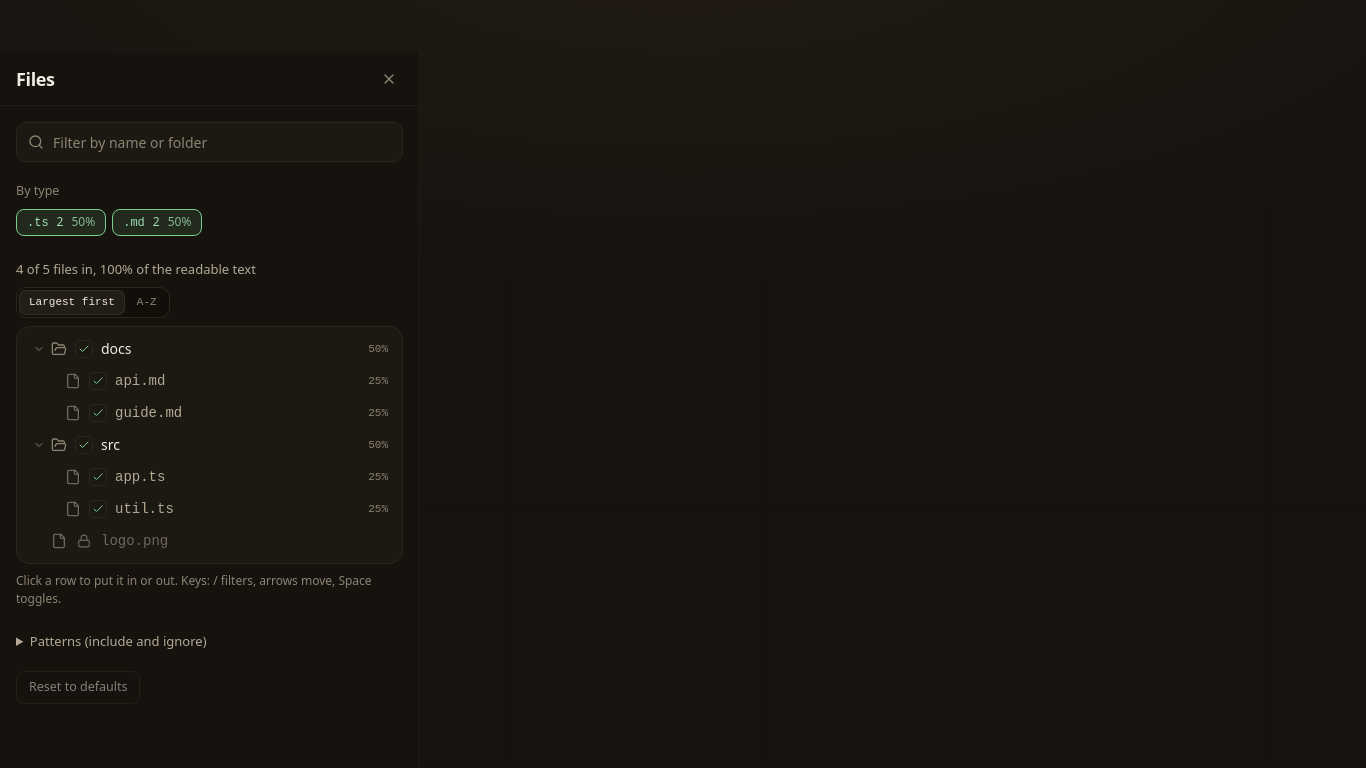
Test: the Files pane › keeps only the matches
In the search field labelled "Filter by name or folder": [210, 142] box top-left (16, 122), bottom-right (403, 162), type "app"
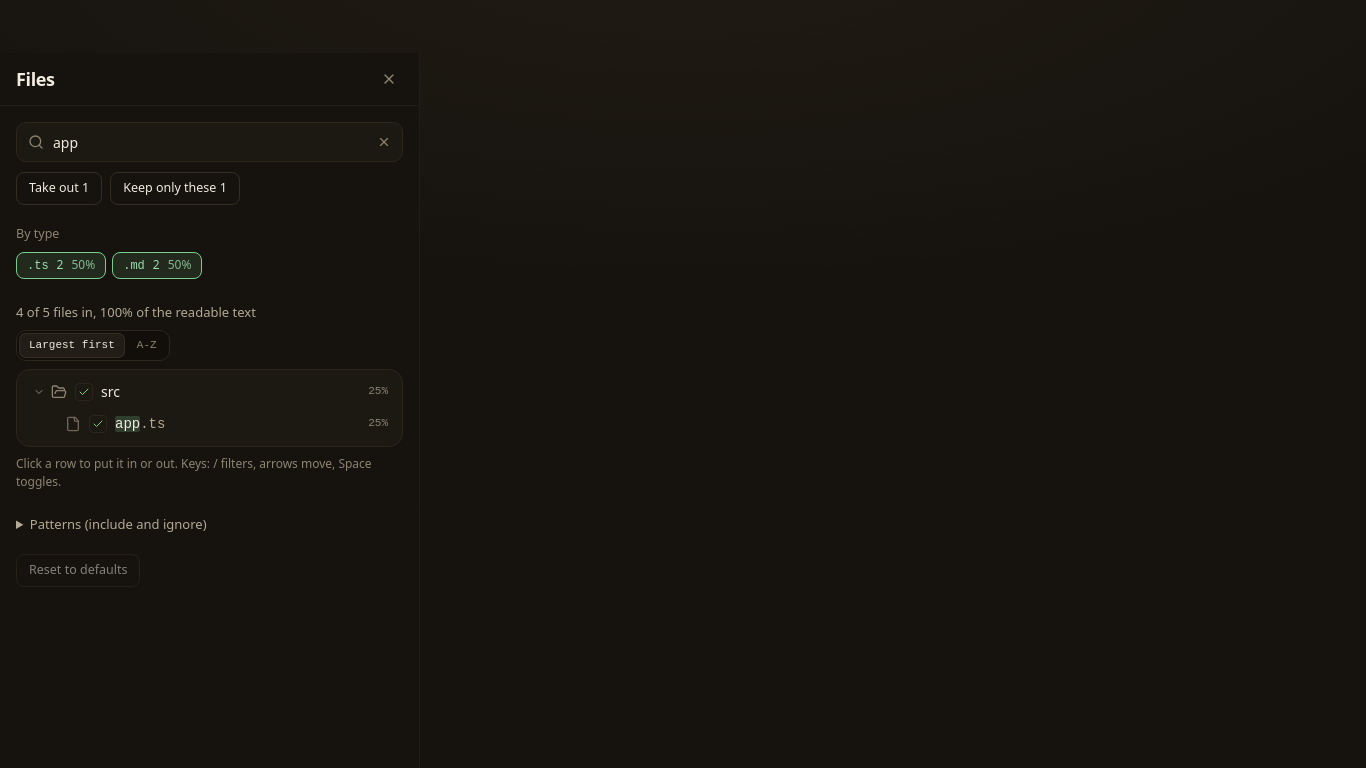
Click the button "Keep only these 1": [175, 188] box top-left (110, 172), bottom-right (240, 205)
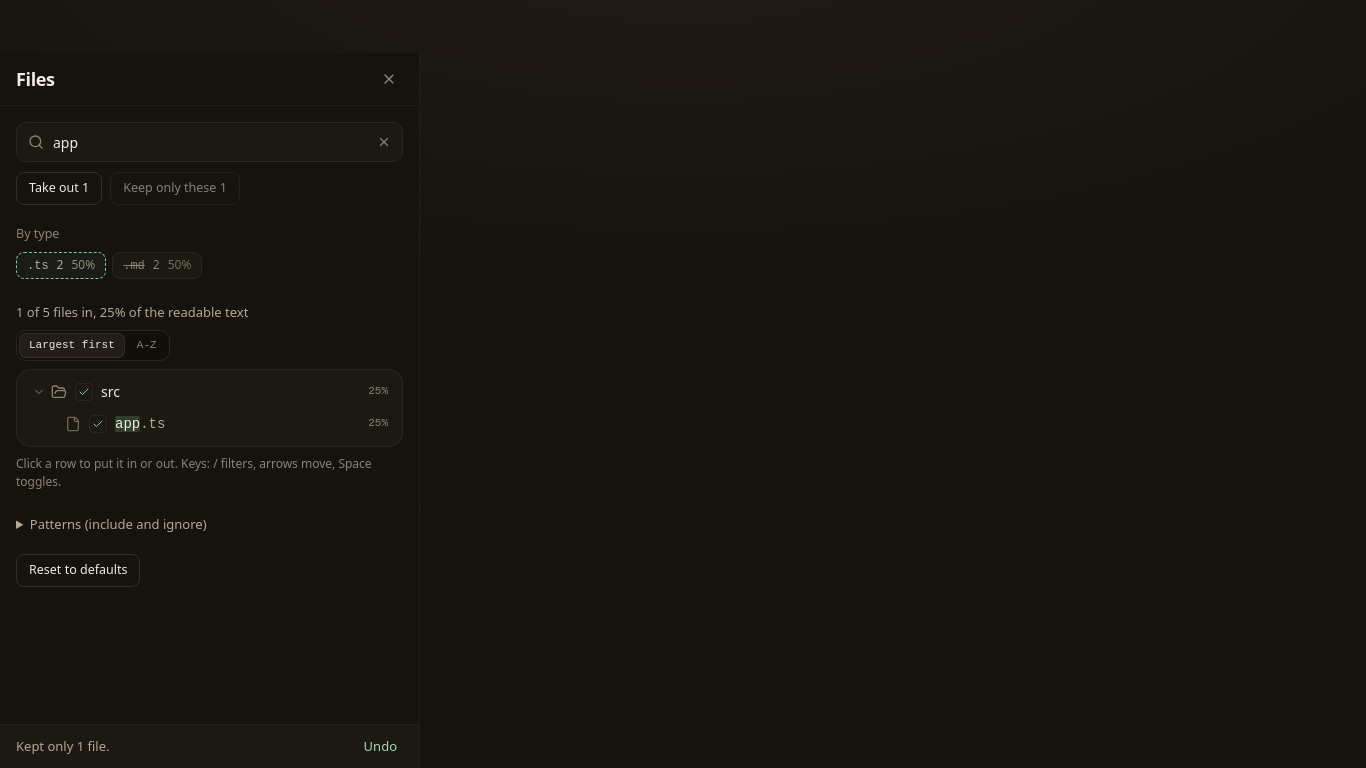
Expected: the text "1 of 5 files in, 25% of the readable text" is shown, top-left (16, 302), bottom-right (248, 322)
